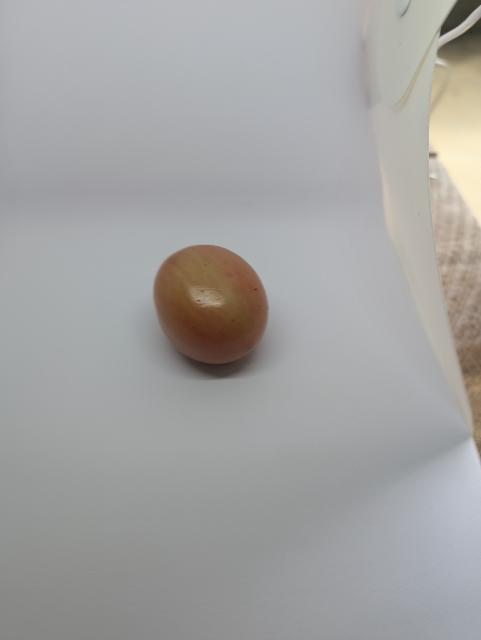turning: (151, 242, 275, 369)
